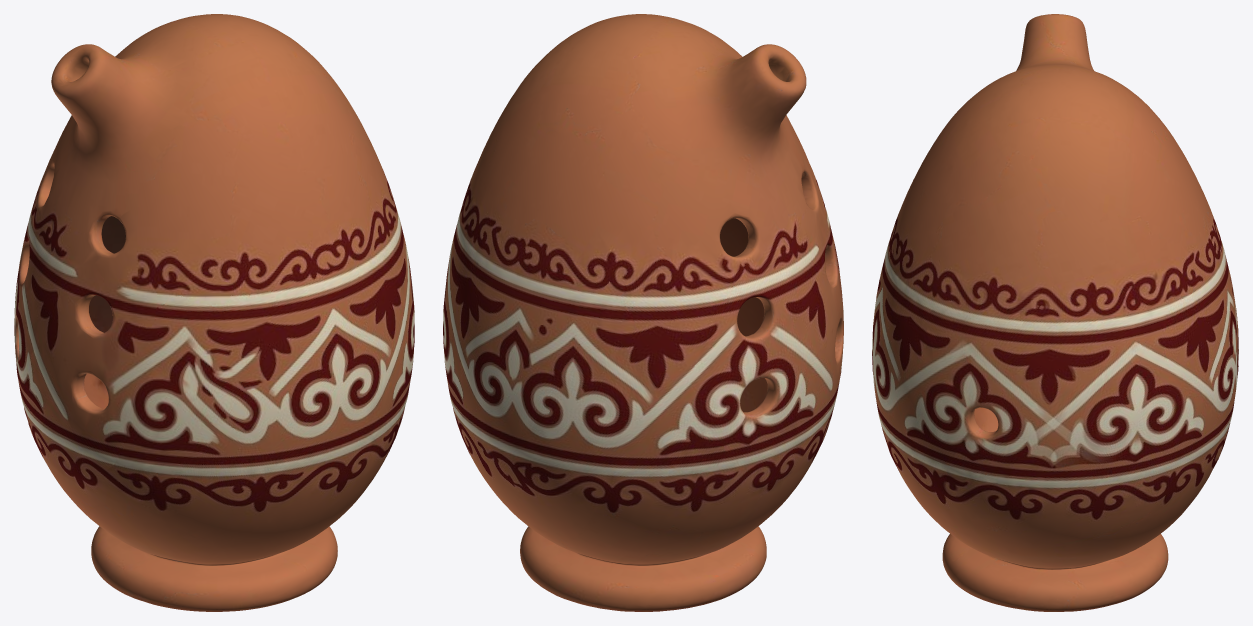
Rendered from sazsyrnai.glb.
3 views of the same model, side by side, from view 1: azimuth 30°, elevation 25°; view 2: azimuth 150°, elevation 25°; view 3: azimuth 270°, elevation 25° (orthographic). The views are drawn at different scales.
Bounding box in the file's own units: 1.26 × 1.9 × 1.26.
Materials: 1 (1 with a texture image).
